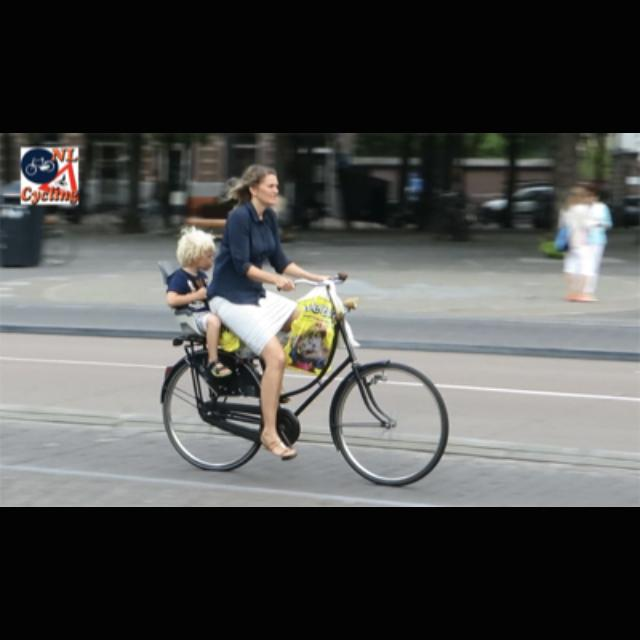Without Helmet: (235, 160, 289, 218), (173, 223, 215, 271)
